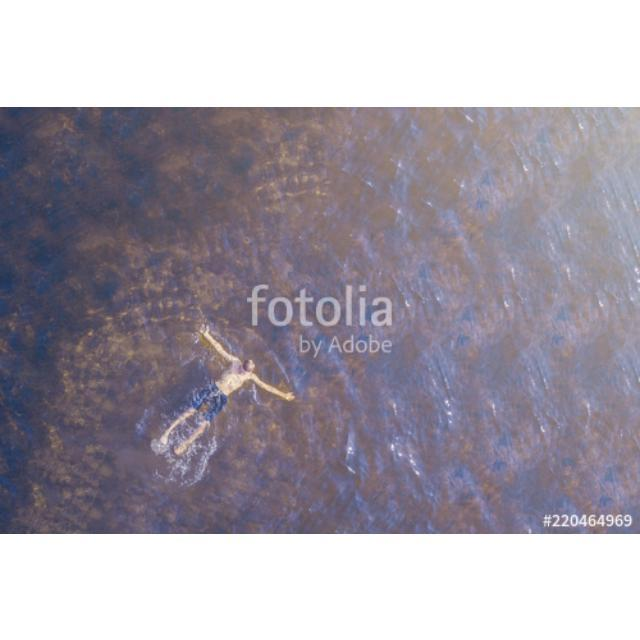human: (154, 324, 296, 460)
